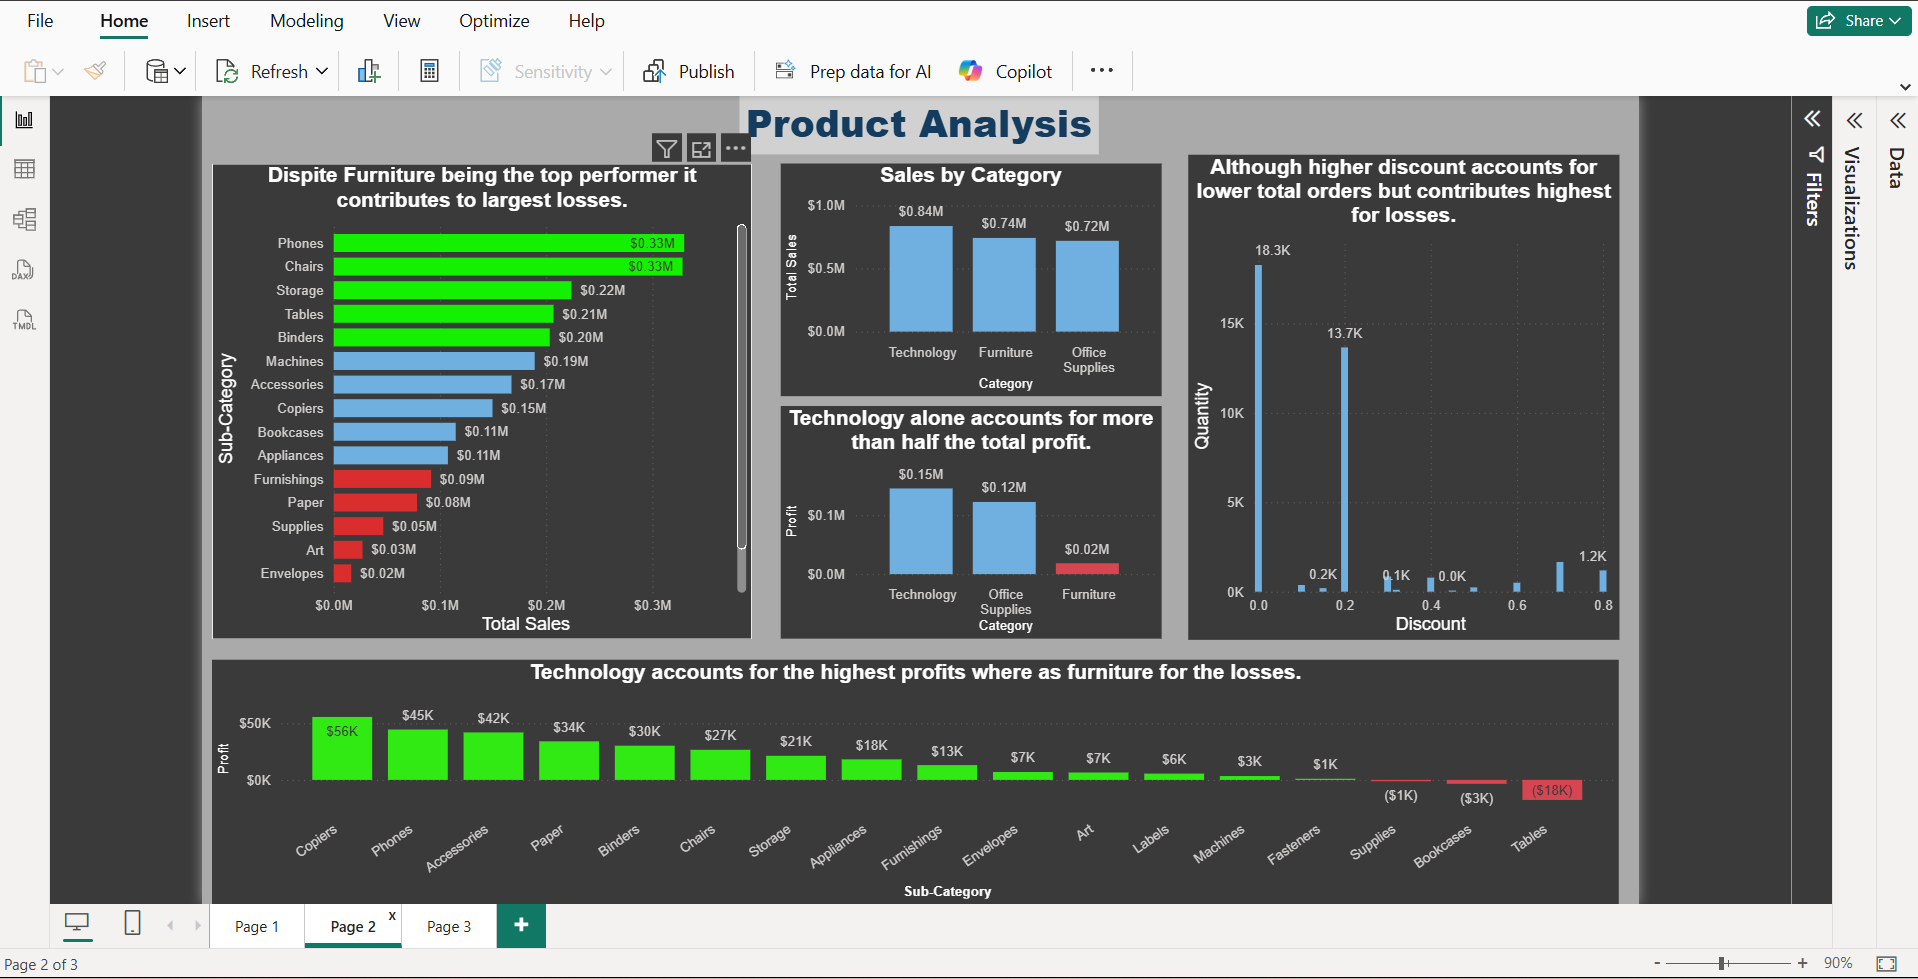

The dashboard page shown, as its layout file describes it:
{"tool":"powerbi","page":{"name":"Page 2","canvas":[1280,720],"ordinal":1},"visuals":[{"type":"textbox","title":"Product Analysis","box":[479,0,319.7,51.9],"z":0},{"type":"barChart","title":"Dispite Furniture being the top performer it contributes to largest losses.","fields":{"Y":["Sum(superstore.Sales)"],"Category":["superstore.Sub-Category"]},"box":[9,60,481,424],"z":1000},{"type":"columnChart","title":"Sales by Category","fields":{"Category":["superstore.Category"],"Y":["Sum(superstore.Sales)"]},"box":[515.2,60.3,339,207.5],"z":2000},{"type":"columnChart","title":"Technology accounts for the highest profits where as furniture for  the losses.","fields":{"Y":["Sum(superstore.Profit)"],"Category":["superstore.Sub-Category"]},"box":[9,502,1253,218],"z":3000},{"type":"columnChart","title":"Technology alone accounts for more than half the total profit.","fields":{"Y":["Sum(superstore.Profit)"],"Category":["superstore.Category"]},"box":[515.2,276.3,339,207.5],"z":4000},{"type":"columnChart","title":"Although higher discount accounts for lower total orders but contributes highest for losses.","fields":{"Category":["superstore.Discount"],"Y":["Sum(superstore.Quantity)"]},"box":[878.3,51.9,383.6,431.9],"z":5000}]}

Visuals, with their boxes on the page's 1280x720 design canvas (x1, y1, x2, y2). These are canvas units, not pixel positions in the 1918x979 screenshot, which may show the page scaled, cropped or inside an application window:
"Product Analysis" textbox: pyautogui.locateOnScreen(479, 0, 799, 52)
"Dispite Furniture being the top performer it contributes to largest losses." barChart: pyautogui.locateOnScreen(9, 60, 490, 484)
"Sales by Category" columnChart: pyautogui.locateOnScreen(515, 60, 854, 268)
"Technology accounts for the highest profits where as furniture for  the losses." columnChart: pyautogui.locateOnScreen(9, 502, 1262, 720)
"Technology alone accounts for more than half the total profit." columnChart: pyautogui.locateOnScreen(515, 276, 854, 484)
"Although higher discount accounts for lower total orders but contributes highest for losses." columnChart: pyautogui.locateOnScreen(878, 52, 1262, 484)
